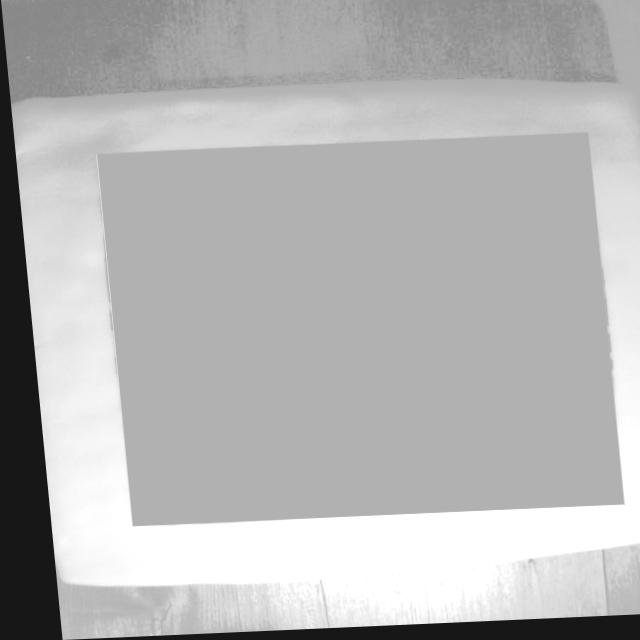qr_code: (92, 138, 613, 526)
